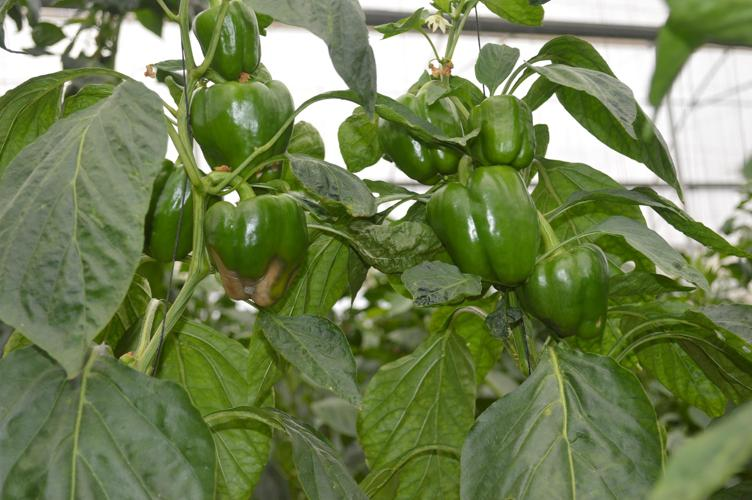BellPepper: (415, 167, 538, 289), (514, 223, 614, 353), (185, 75, 292, 189), (209, 193, 316, 293), (375, 80, 459, 186), (125, 167, 205, 260), (457, 87, 540, 166), (195, 4, 263, 83)
